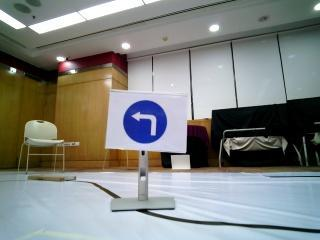left: (110, 88, 177, 150)
